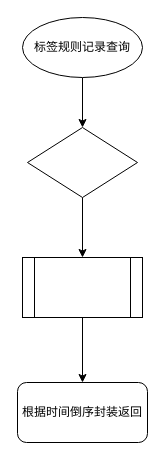
Some shapes in this 165 by 460 pixel diagram are drawn without their labels. Here are the shapes that lost their labels. From the top down, the centre of each, then its label:
At point (82, 162): "校验标签是否存在".
At point (82, 287): "查询标签规则表".
